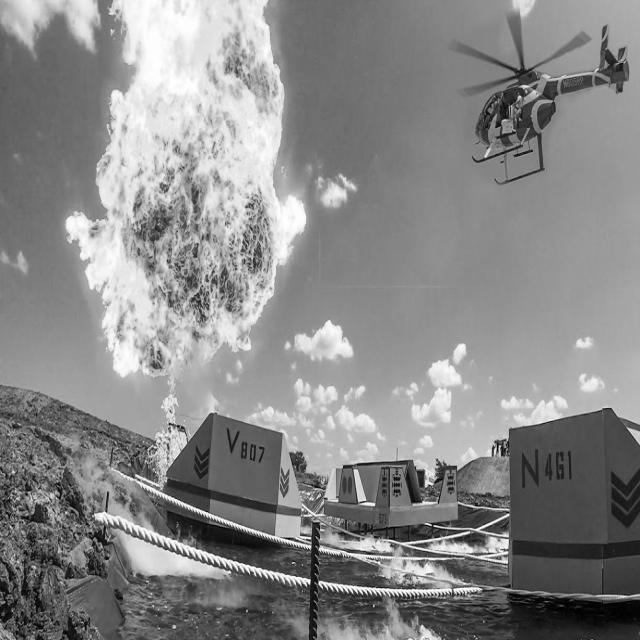helicopter: (454, 1, 640, 199)
